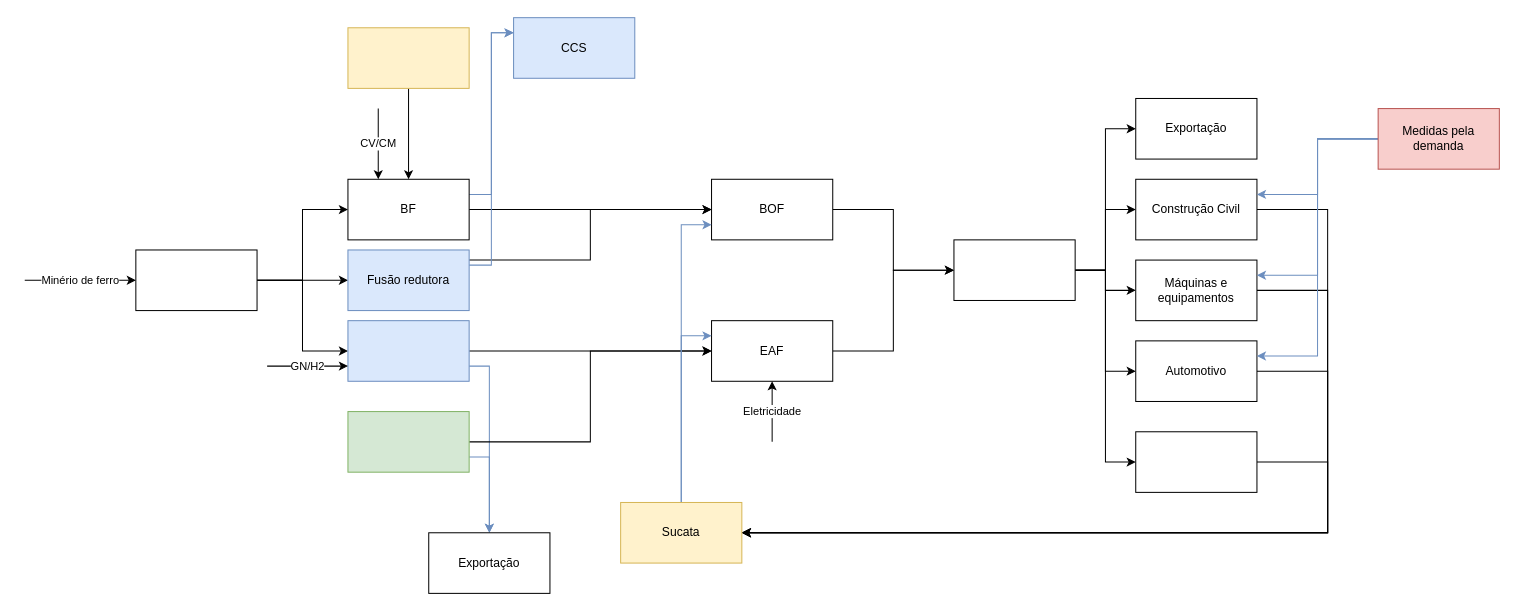
This 1517x611 diagram has some shape labels left out. Here are the shapes that lost their labels. From the top down, the centre of each, then its label:
(x=408, y=57): EE
(x=196, y=280): Peletização
(x=1014, y=269): Aço bruto
(x=408, y=350): DRI
(x=408, y=441): Produção de gusa independente
(x=1196, y=461): Outros setores
